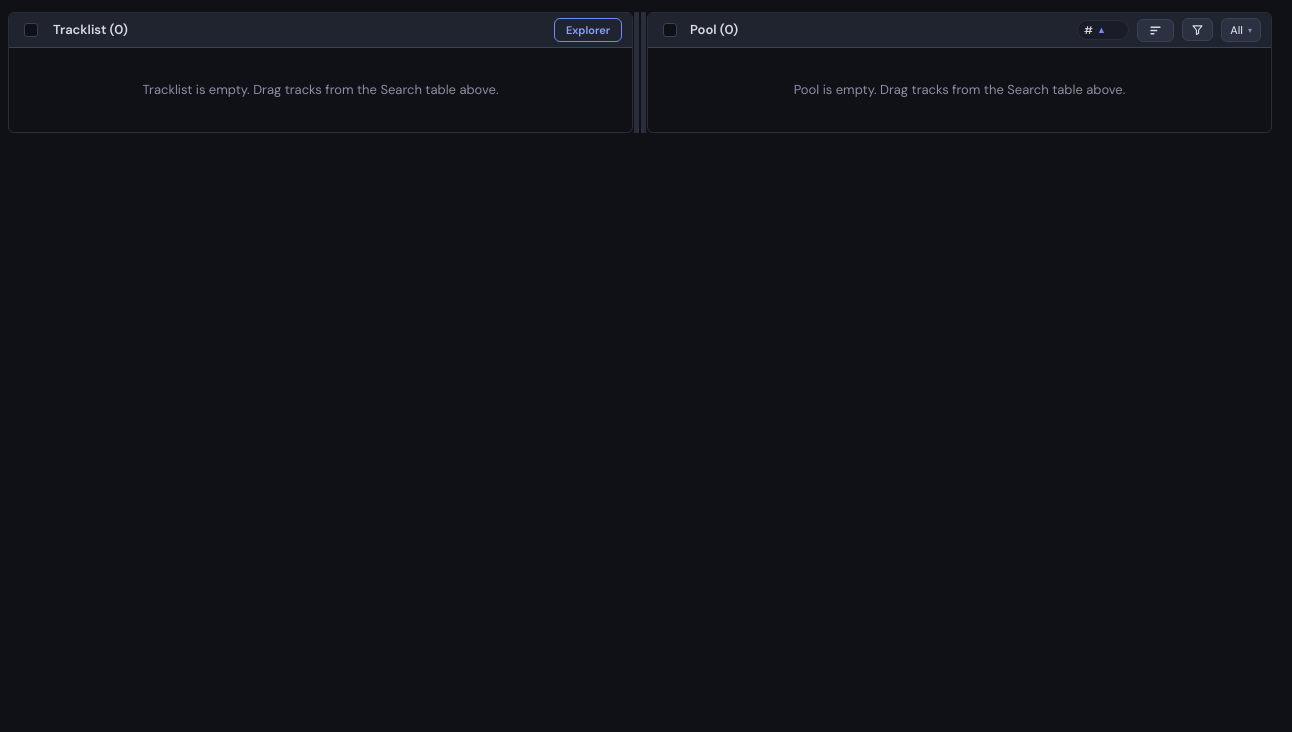
Scenario: SetBuilder › workspace layout › opens the Explorer view via the tracklist header and returns with the back arrow
Click the button "Explorer": (588, 30) x1=554 y1=18 x2=622 y2=42
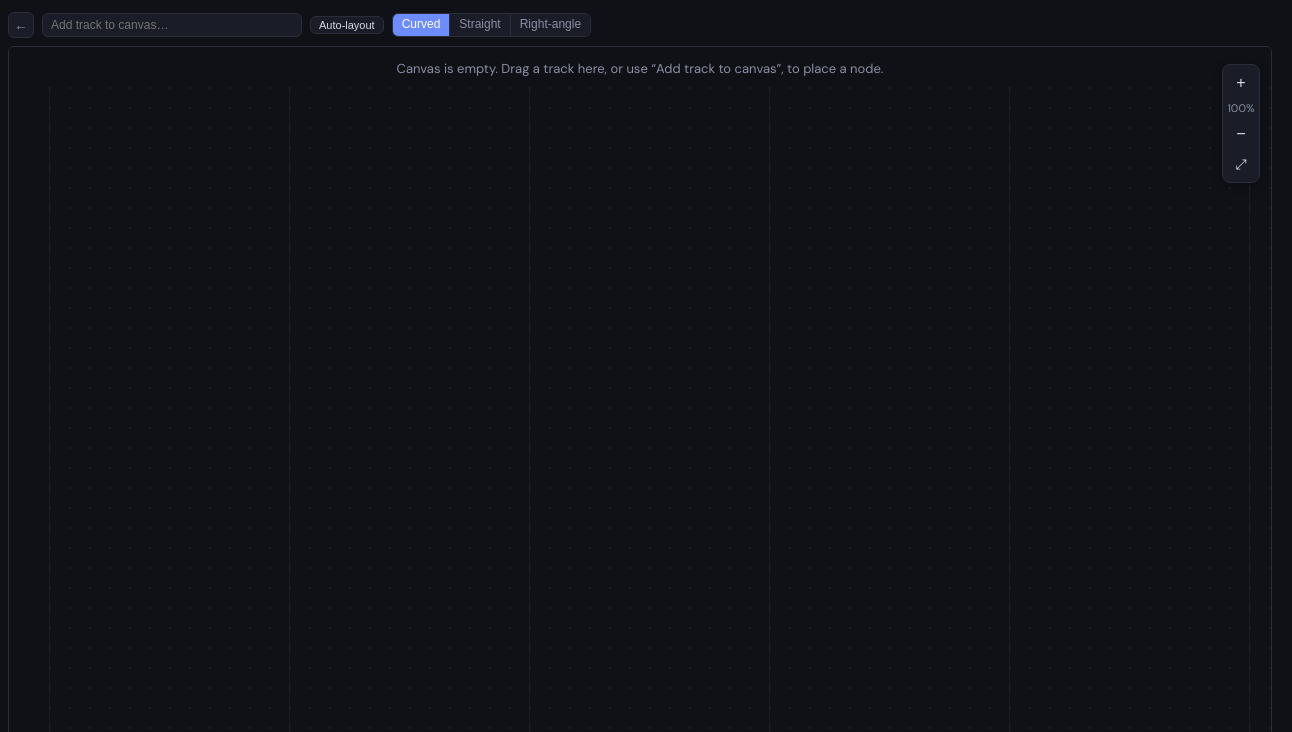
expect the text "Canvas is empty" is shown: met, box x1=397 y1=60 x2=883 y2=77
Click the button named "Back to tracklist and pool": (21, 25) x1=8 y1=12 x2=34 y2=38
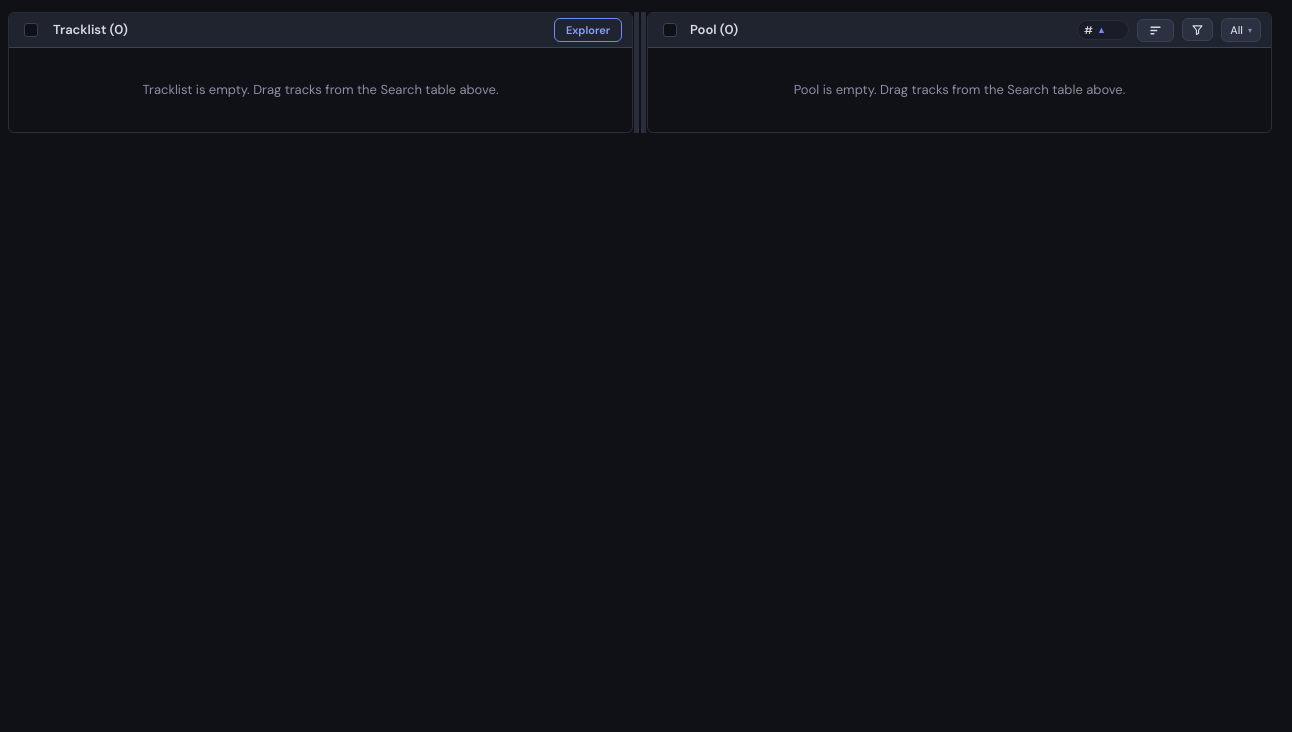
expect the text "Tracklist (0)" is shown: met, box x1=53 y1=20 x2=128 y2=40
expect the text "Pool (0)" is shown: met, box x1=690 y1=20 x2=738 y2=40
